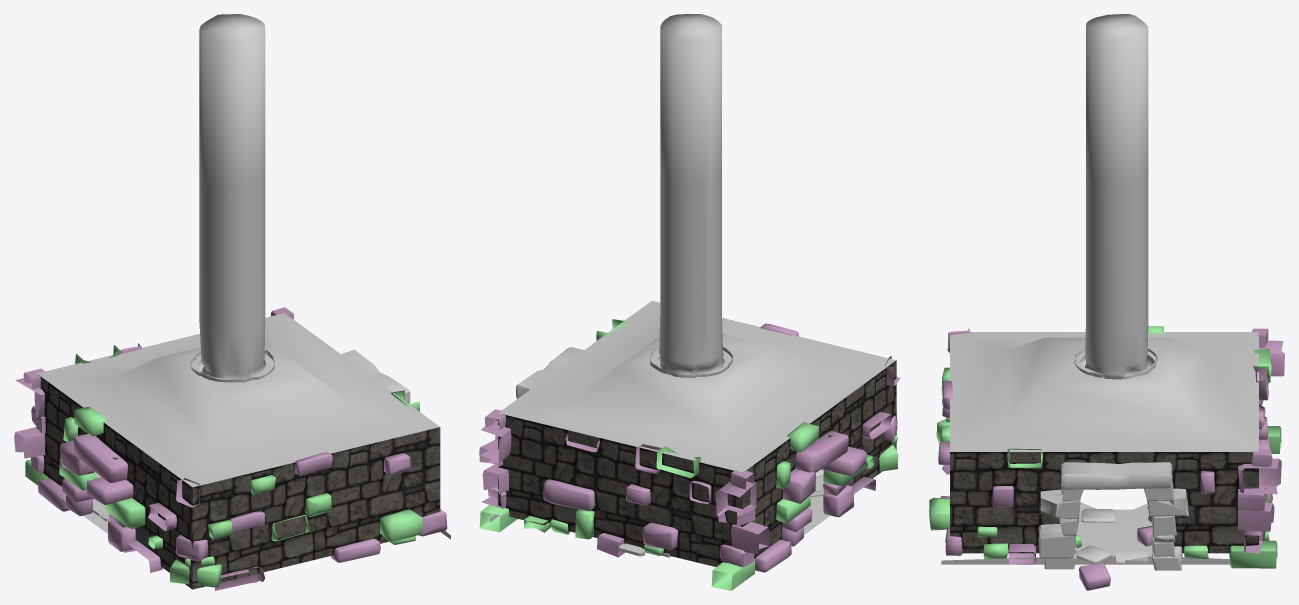
Rendered from CentralRoomSecondTime.FBX.
The picture shows the model from 3 angles, left to right: view 1: azimuth 30°, elevation 25°; view 2: azimuth 150°, elevation 25°; view 3: azimuth 270°, elevation 25°; orthographic projection.
Visible parts, largest first — view 1: CentralRoomSecondTime; view 2: CentralRoomSecondTime; view 3: CentralRoomSecondTime.
Boxes of the visible parts, bbox=[...] form: CentralRoomSecondTime: bbox=[14, 14, 450, 590]; CentralRoomSecondTime: bbox=[479, 14, 900, 590]; CentralRoomSecondTime: bbox=[929, 14, 1284, 590].
Bounding box in the file's own units: 1550 × 2154 × 1437.
